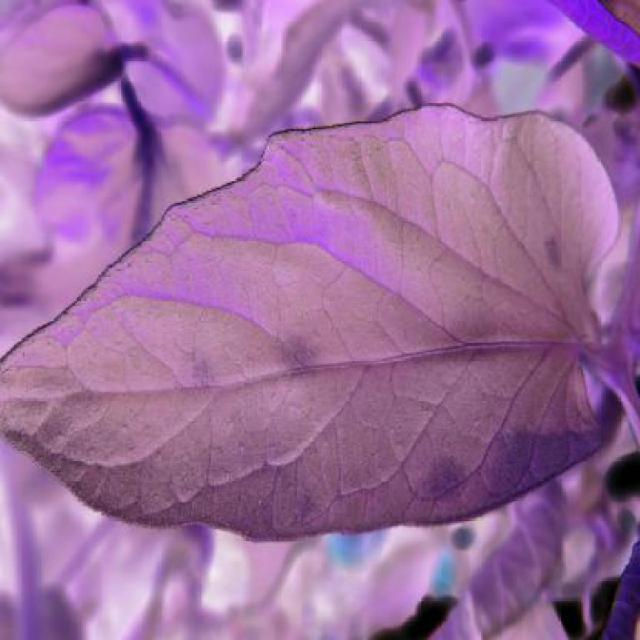Tomato bacterial spot leaf: (0, 103, 609, 569)
